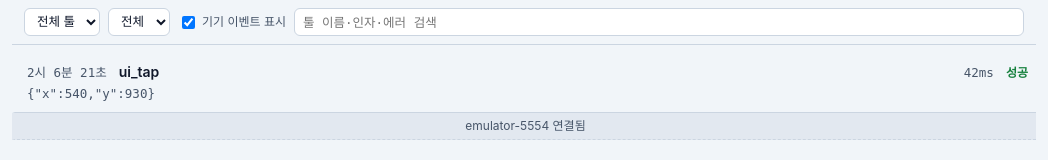
Test: ActivityTab › hides device rows when the device toggle is off
This screenshot has width=1048, height=160.
What coordinates should you click on to do the following:
click the checkbox labelled "기기 이벤트 표시"
I would click on:
 (188, 22)
Its box is 182,16 -> 195,28.
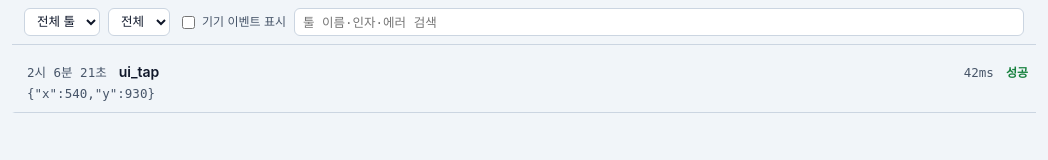
Expected: the list item shows "ui_tap", 15,53 -> 1036,112
Result: the number of list items is 1 at 12,53 -> 1036,112
